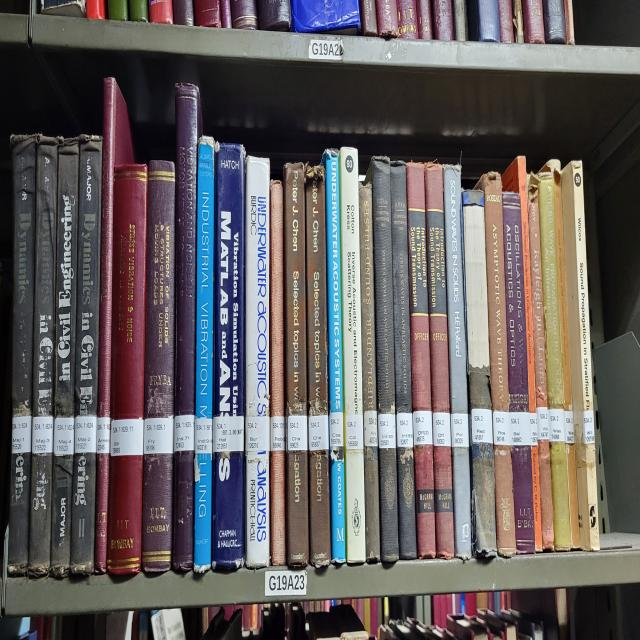Book: (95, 78, 135, 574), (108, 165, 148, 574), (501, 157, 542, 552), (561, 160, 600, 549), (542, 160, 580, 549), (172, 84, 202, 571), (478, 173, 516, 557), (211, 143, 245, 571), (141, 160, 175, 574), (70, 135, 102, 574), (29, 135, 59, 576), (50, 138, 79, 576), (462, 184, 496, 557), (8, 135, 36, 574), (369, 160, 399, 563), (539, 173, 571, 549), (502, 192, 535, 552), (425, 165, 455, 560), (406, 162, 435, 557), (340, 146, 366, 563), (444, 165, 471, 560), (305, 165, 331, 568), (245, 157, 270, 568), (284, 162, 309, 568), (391, 162, 416, 560), (321, 149, 345, 563), (528, 176, 554, 549), (194, 135, 215, 574), (360, 173, 380, 563), (270, 181, 286, 565), (531, 444, 542, 552)
Label: (110, 417, 144, 457), (144, 417, 174, 455), (212, 417, 244, 452), (75, 417, 98, 455), (246, 417, 270, 452), (32, 417, 54, 455), (286, 414, 308, 452), (54, 417, 75, 455), (174, 414, 195, 452), (11, 417, 31, 455), (309, 414, 329, 452), (471, 409, 492, 444), (510, 411, 531, 446), (412, 411, 432, 446), (396, 411, 414, 449), (345, 414, 364, 449), (432, 411, 451, 446), (492, 411, 511, 446), (195, 417, 212, 455), (378, 414, 396, 449), (451, 414, 469, 446), (329, 411, 344, 449), (96, 417, 110, 455), (270, 417, 285, 452), (549, 409, 565, 441), (364, 411, 378, 446), (536, 406, 549, 441), (582, 409, 595, 444), (564, 409, 575, 444), (530, 411, 538, 446)
